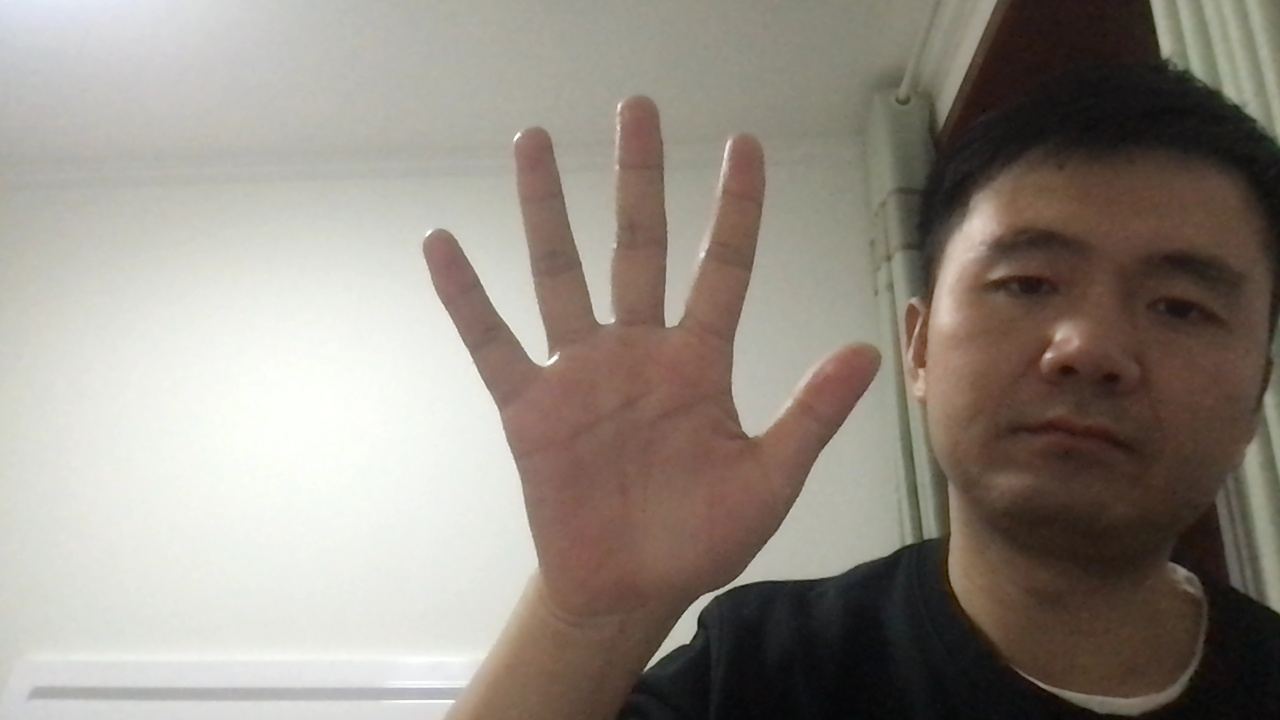hello: (409, 87, 886, 614)
